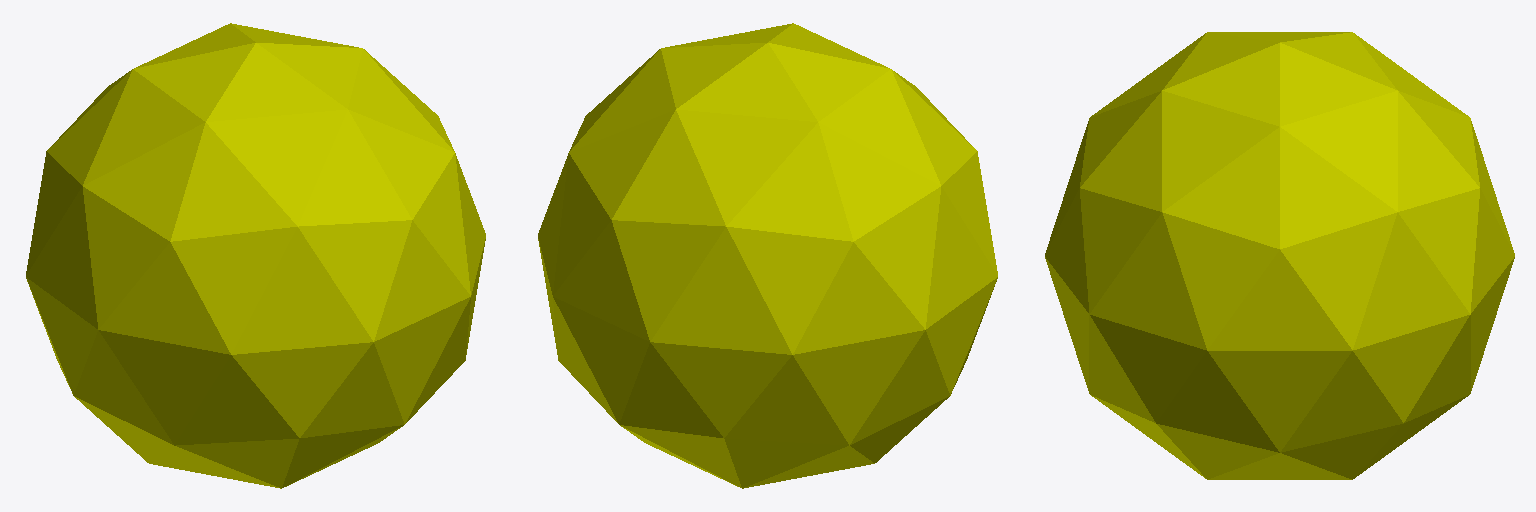
Rendered from lamp.obj.
The picture shows the model from 3 angles: view 1: azimuth 30°, elevation 25°; view 2: azimuth 150°, elevation 25°; view 3: azimuth 270°, elevation 25°; orthographic projection.
Visible parts, largest first — view 1: Icosphere; view 2: Icosphere; view 3: Icosphere.
Boxes of the visible parts, x1,y1,x2,y2 form: Icosphere: [26, 23, 485, 488]; Icosphere: [538, 23, 997, 488]; Icosphere: [1045, 32, 1514, 479].
Bounding box in the file's own units: 1.9 × 2 × 2.